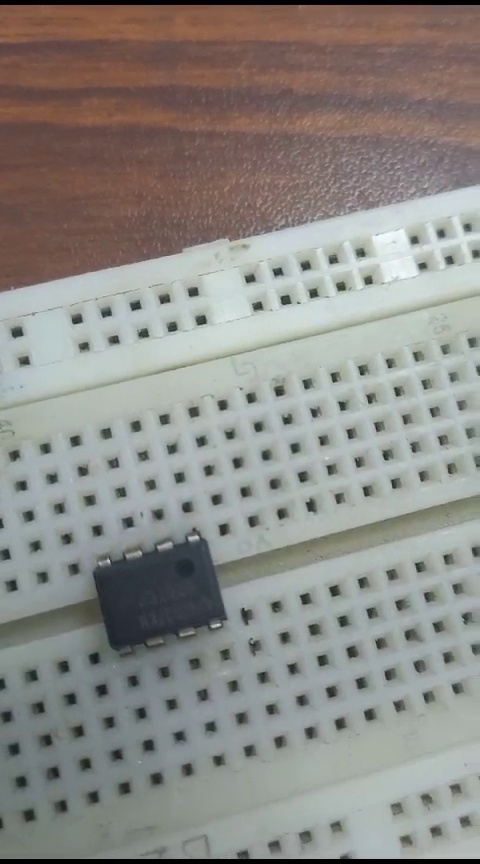IC: (86, 527, 232, 661)
